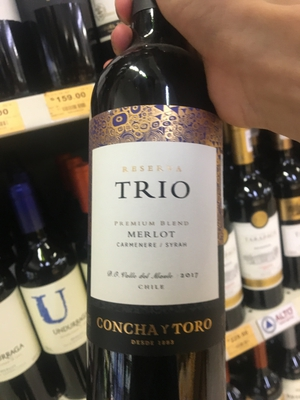trio merlot: (73, 31, 242, 394)
